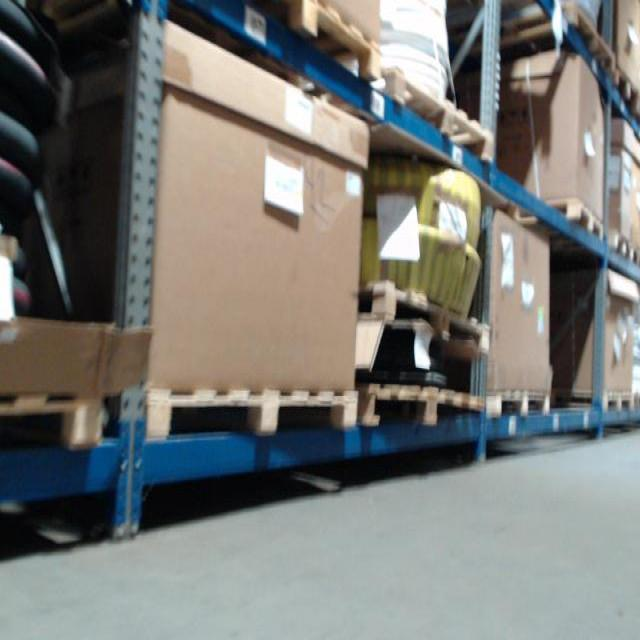pallet: (142, 383, 360, 445), (377, 63, 495, 167), (379, 67, 496, 165), (357, 278, 492, 359), (259, 0, 382, 84), (0, 390, 108, 455), (357, 379, 483, 426), (560, 0, 616, 79), (552, 382, 638, 417), (546, 197, 605, 245), (486, 386, 551, 424), (611, 65, 640, 120), (605, 231, 635, 261)
